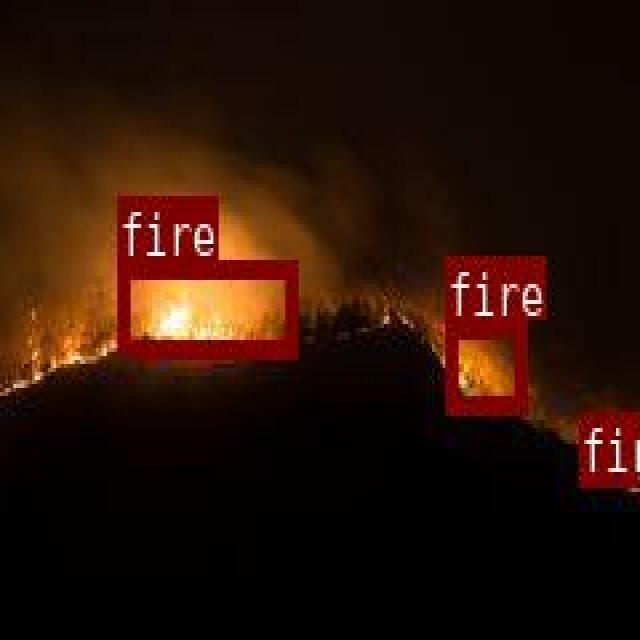fire: (117, 257, 295, 356), (445, 318, 524, 409), (577, 412, 632, 483)
